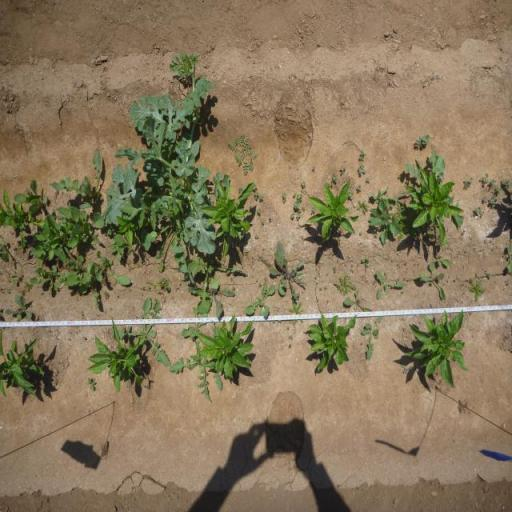plant: (406, 309, 474, 391), (88, 320, 146, 397), (200, 313, 260, 382), (202, 181, 254, 258), (407, 171, 461, 239), (305, 178, 358, 246), (0, 328, 47, 400), (306, 313, 358, 374), (0, 188, 43, 249)
weed: (104, 50, 232, 284), (169, 311, 223, 407), (29, 201, 104, 265), (118, 295, 174, 369), (187, 257, 250, 320), (47, 148, 104, 202), (269, 238, 313, 302), (64, 248, 103, 309), (227, 130, 263, 175), (368, 199, 400, 248), (93, 249, 134, 286), (417, 261, 450, 303), (242, 281, 276, 316), (360, 316, 384, 362), (30, 266, 66, 296), (22, 177, 50, 213), (374, 270, 404, 302), (5, 294, 34, 320), (344, 289, 372, 312), (108, 234, 130, 262), (466, 274, 486, 304), (146, 275, 174, 295), (332, 274, 356, 293), (372, 186, 400, 202), (288, 300, 306, 324), (398, 199, 408, 242), (413, 132, 431, 148), (436, 246, 450, 266), (0, 239, 11, 263), (482, 194, 498, 208), (356, 196, 368, 214), (505, 244, 512, 274), (400, 362, 413, 378), (11, 272, 23, 288), (86, 376, 98, 392), (472, 206, 485, 219), (500, 177, 512, 191), (22, 280, 32, 294), (464, 176, 473, 190), (358, 162, 366, 176), (480, 172, 488, 186), (361, 257, 371, 268), (359, 149, 367, 161), (296, 208, 302, 222), (340, 166, 348, 176), (281, 193, 287, 205), (300, 180, 306, 191), (332, 172, 338, 183), (104, 290, 110, 300), (256, 208, 262, 218), (356, 184, 362, 194), (490, 178, 496, 188), (254, 191, 259, 201), (288, 334, 294, 342), (296, 192, 302, 200), (294, 200, 300, 208), (310, 207, 316, 215), (348, 192, 354, 200), (258, 194, 264, 201), (290, 213, 296, 220), (487, 272, 492, 280), (332, 266, 337, 273), (365, 177, 370, 184), (497, 187, 502, 194), (328, 183, 334, 187), (398, 173, 402, 179), (255, 234, 259, 239)
